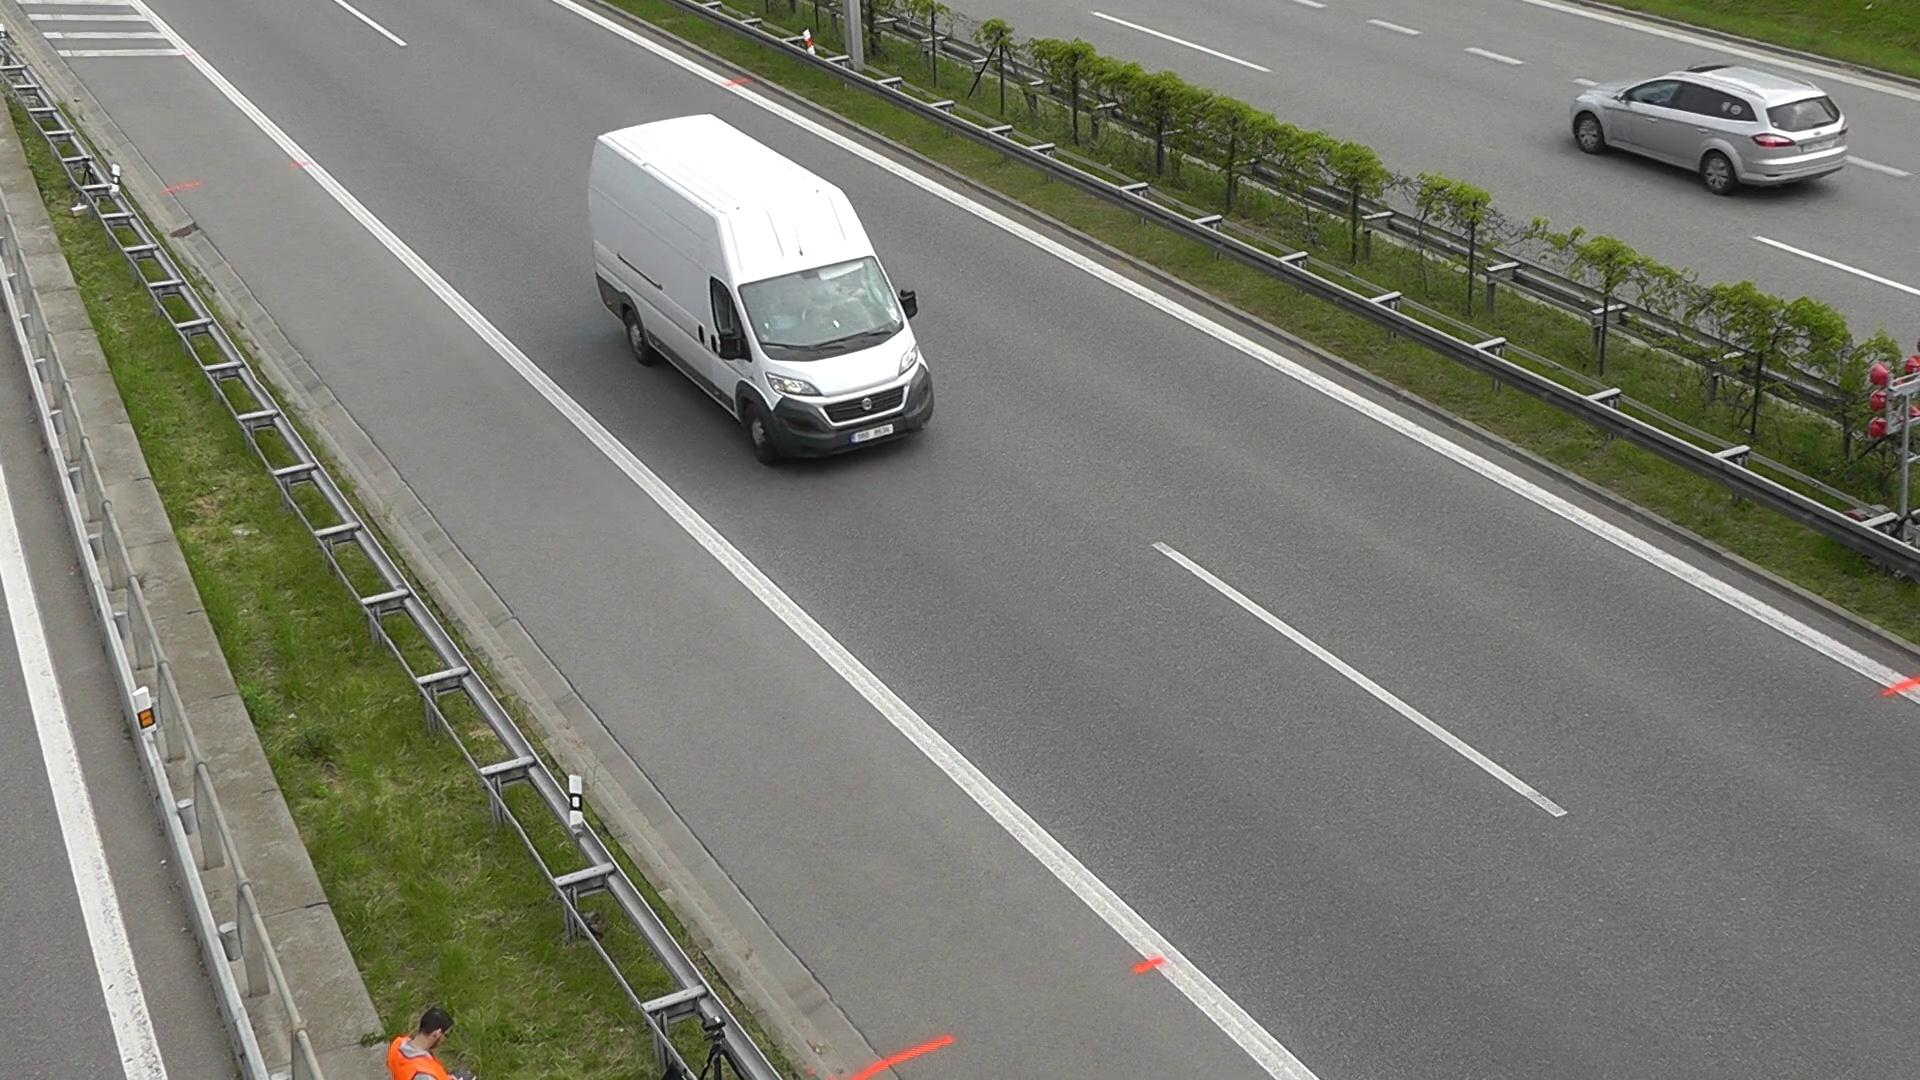Car: (1578, 36, 1858, 215)
Human: (356, 996, 472, 1080)
Pedestrian: (24, 284, 514, 1080)
Van: (592, 110, 939, 471)
